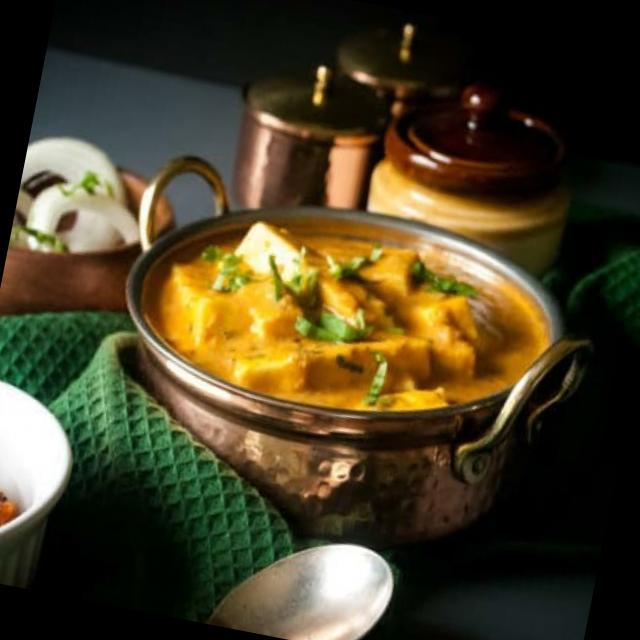ShahiPaneer: (128, 190, 561, 444)
